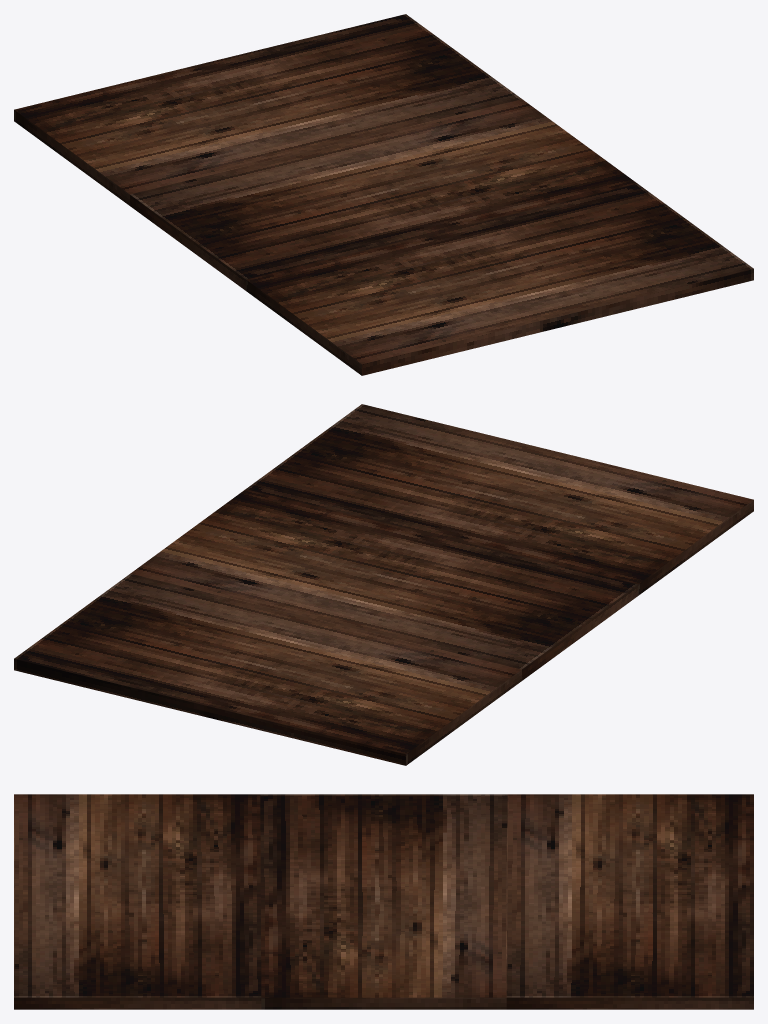
Rendered from SM_Floor_Test_B.glb.
3 renders of one model, top to bottom at view 1: azimuth 30°, elevation 25°; view 2: azimuth 150°, elevation 25°; view 3: azimuth 270°, elevation 25°, orthographic. The views are drawn at different scales.
Parts seen in each view (by area): view 1: SM_Floor_B; view 2: SM_Floor_B; view 3: SM_Floor_B.
Boxes of the visible parts, <box> form: SM_Floor_B: <box>14,14,753,375</box>; SM_Floor_B: <box>14,404,753,765</box>; SM_Floor_B: <box>14,794,753,1009</box>.
Size of the model in its own units: 10.96 by 0.3078 by 16.85.
Materials: 1 (1 with a texture image).
